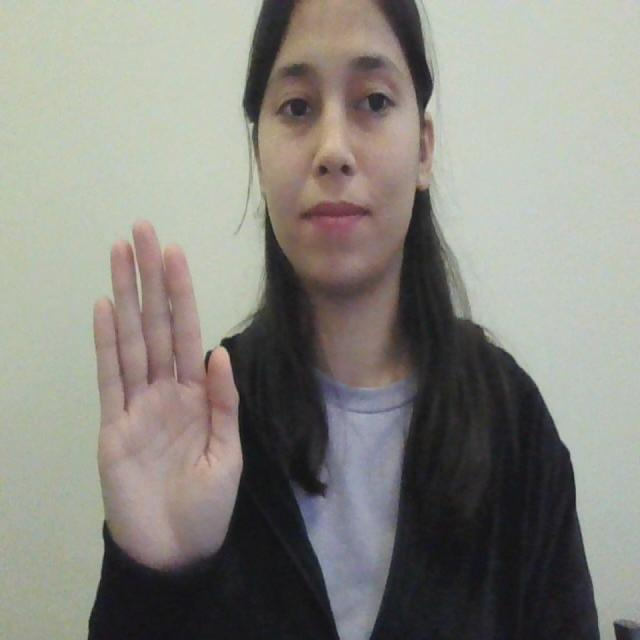Dur: (79, 200, 259, 604)
